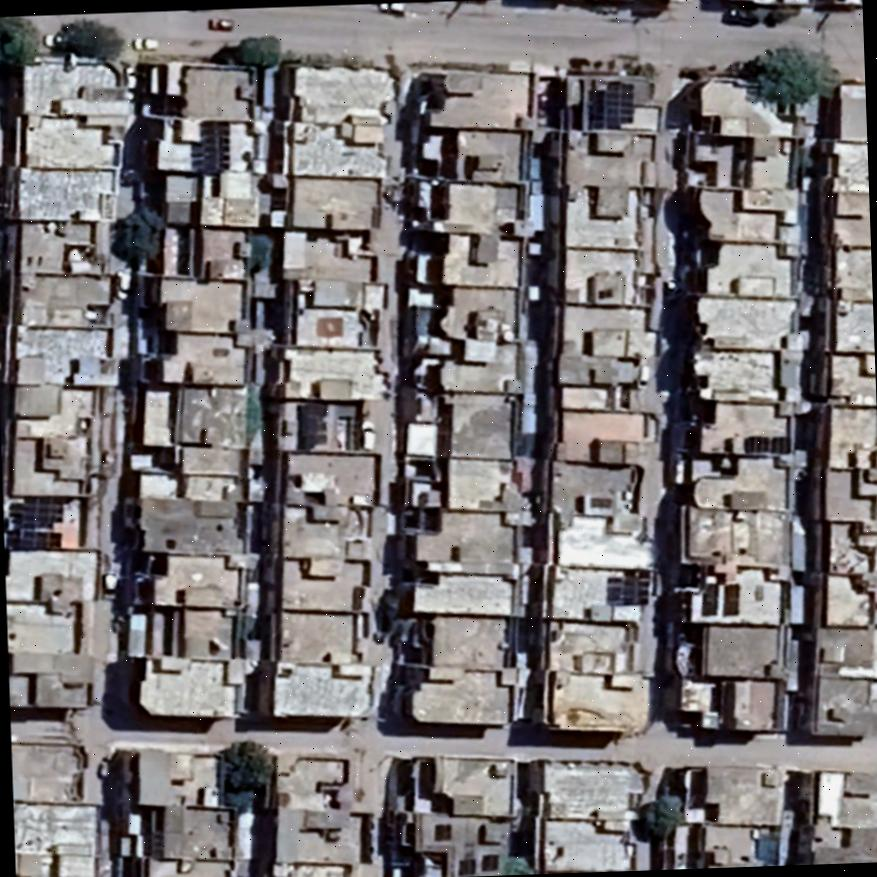Solarpanel: (6, 493, 64, 551), (586, 81, 639, 133), (195, 114, 232, 182), (605, 565, 649, 607), (699, 581, 718, 618), (721, 583, 741, 618), (431, 821, 454, 845)
